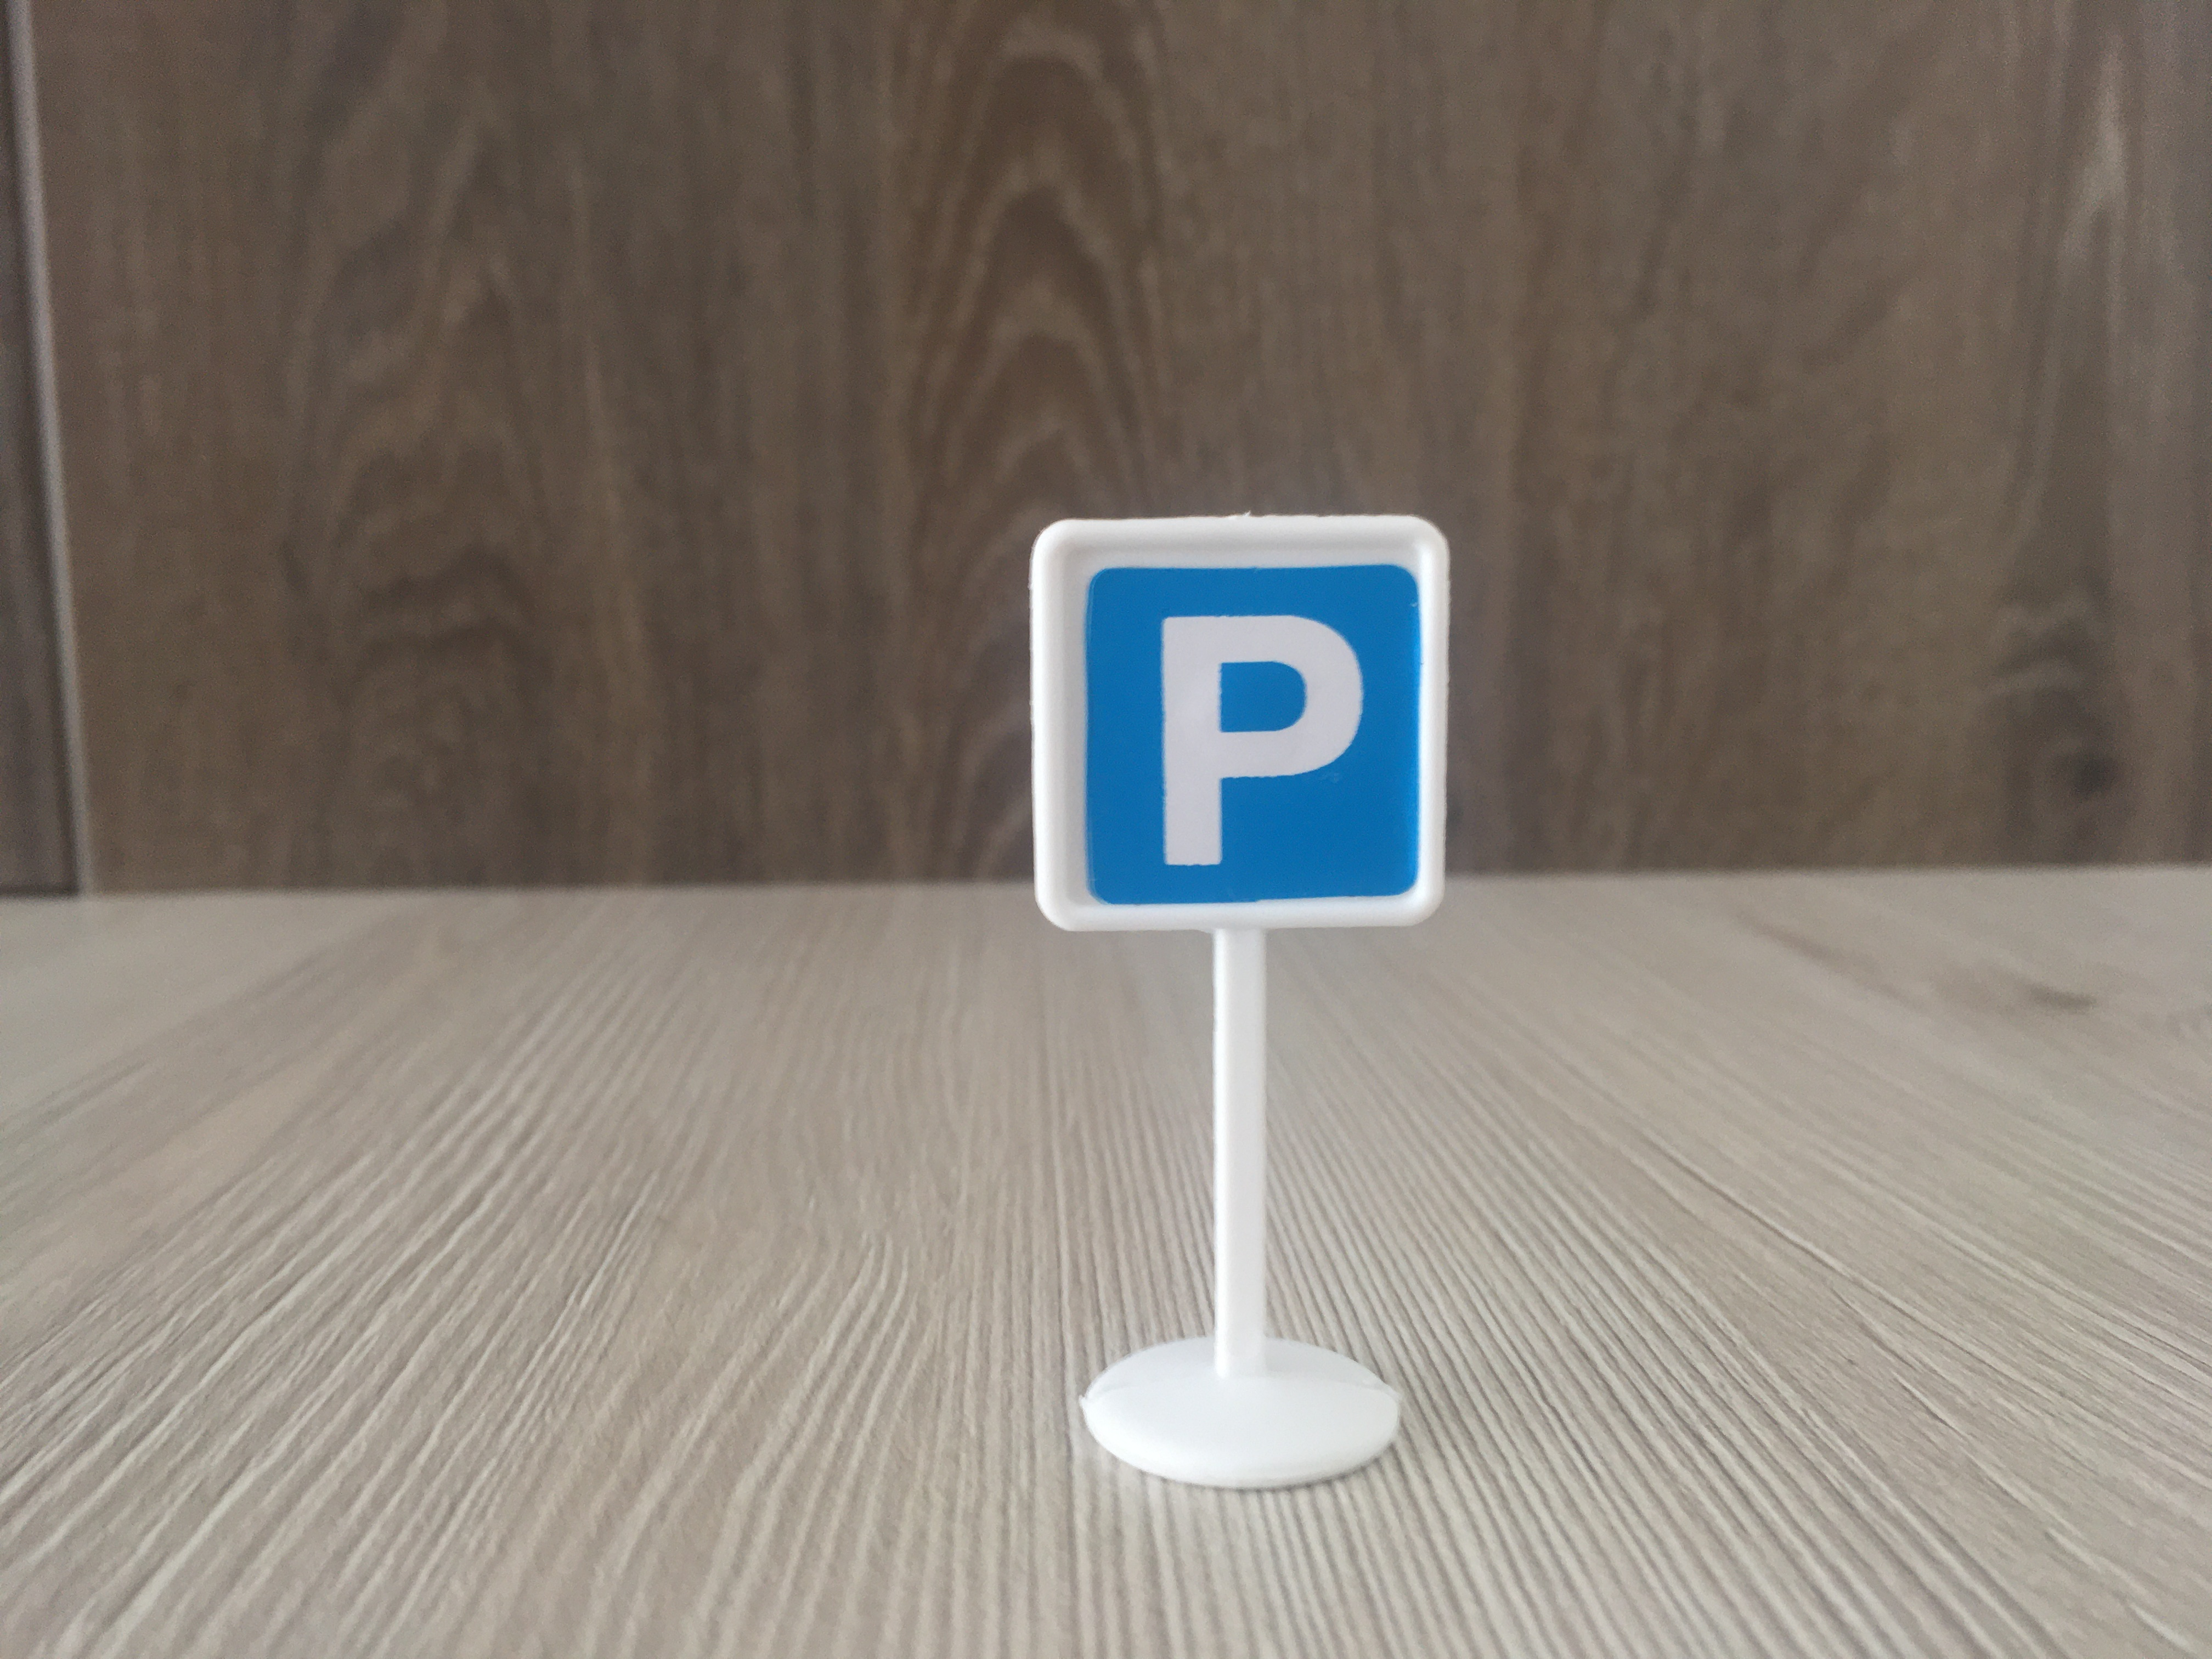parking: (1028, 514, 1451, 945)
